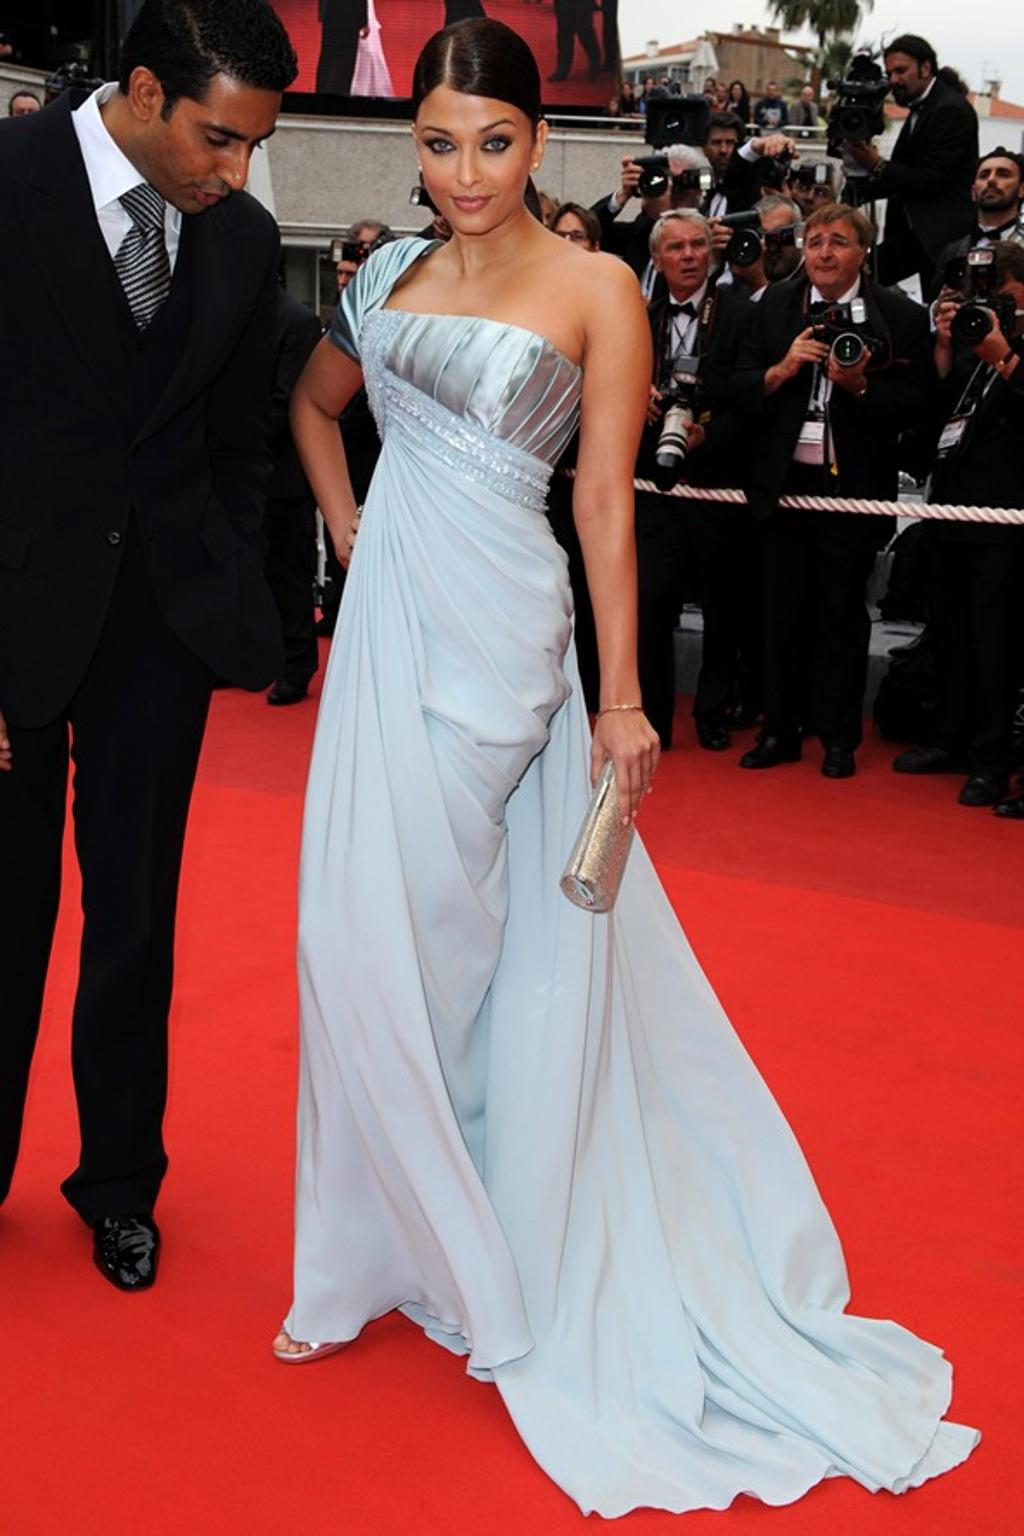face: (416, 102, 533, 233), (148, 98, 278, 213), (805, 224, 859, 284), (748, 215, 796, 276), (661, 225, 709, 285), (975, 285, 1023, 341), (649, 164, 700, 217), (791, 172, 832, 226), (975, 161, 1019, 207), (885, 55, 922, 104), (551, 215, 589, 262), (709, 127, 738, 167)
